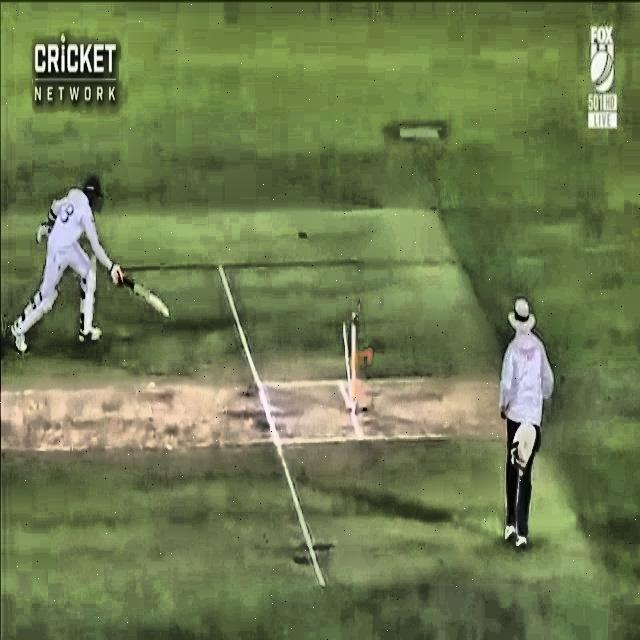Bat: (106, 264, 173, 322)
Dis_Wicket: (324, 305, 380, 428)
Pitch_Line: (219, 263, 324, 588)
